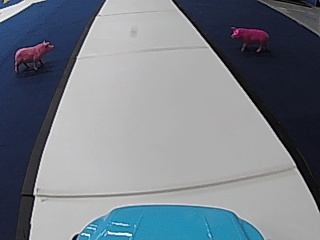pig: (12, 38, 53, 73), (227, 23, 270, 53)
